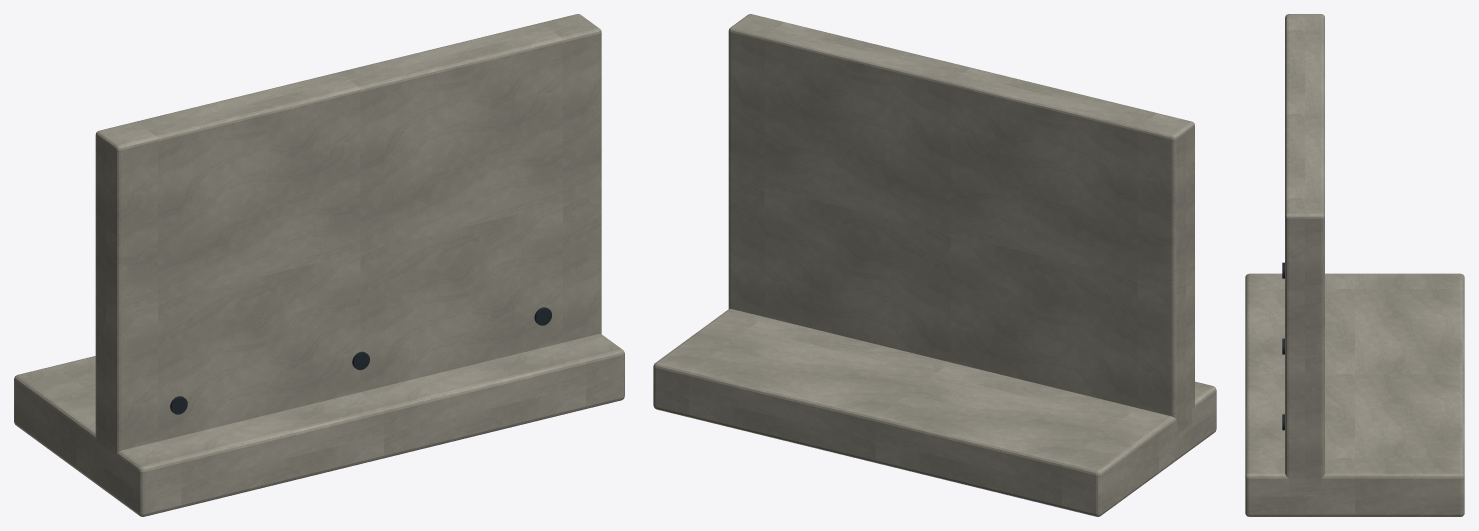
File: concrete-wall-innerscene-cc0.glb
3 renders of one model, left to right at view 1: azimuth 30°, elevation 25°; view 2: azimuth 150°, elevation 25°; view 3: azimuth 270°, elevation 25°, orthographic. The views are drawn at different scales.
Parts seen in each view (by area): view 1: Retaining stem, Retaining wall footing; view 2: Retaining stem, Retaining wall footing; view 3: Retaining wall footing, Retaining stem.
Boxes of the visible parts, x1,y1,x2,y2 form: Retaining stem: (95, 14, 601, 456); Retaining wall footing: (14, 334, 624, 516); Retaining stem: (728, 14, 1194, 434); Retaining wall footing: (653, 308, 1216, 516); Retaining wall footing: (1245, 273, 1464, 516); Retaining stem: (1285, 14, 1324, 491).
Size of the model in its own units: 2.4 by 1.67 by 1.1.
Materials: 2 (2 with a texture image).
